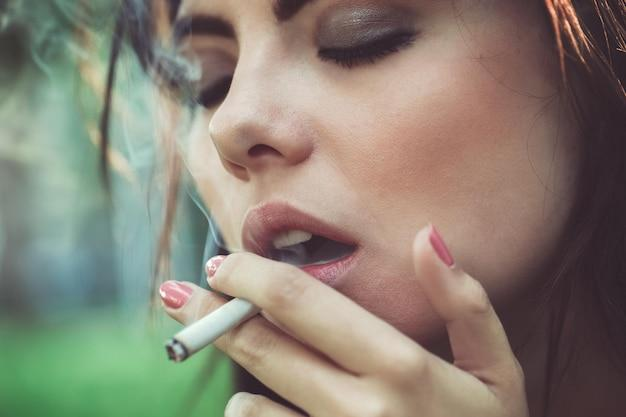cigarette: (165, 298, 259, 361)
